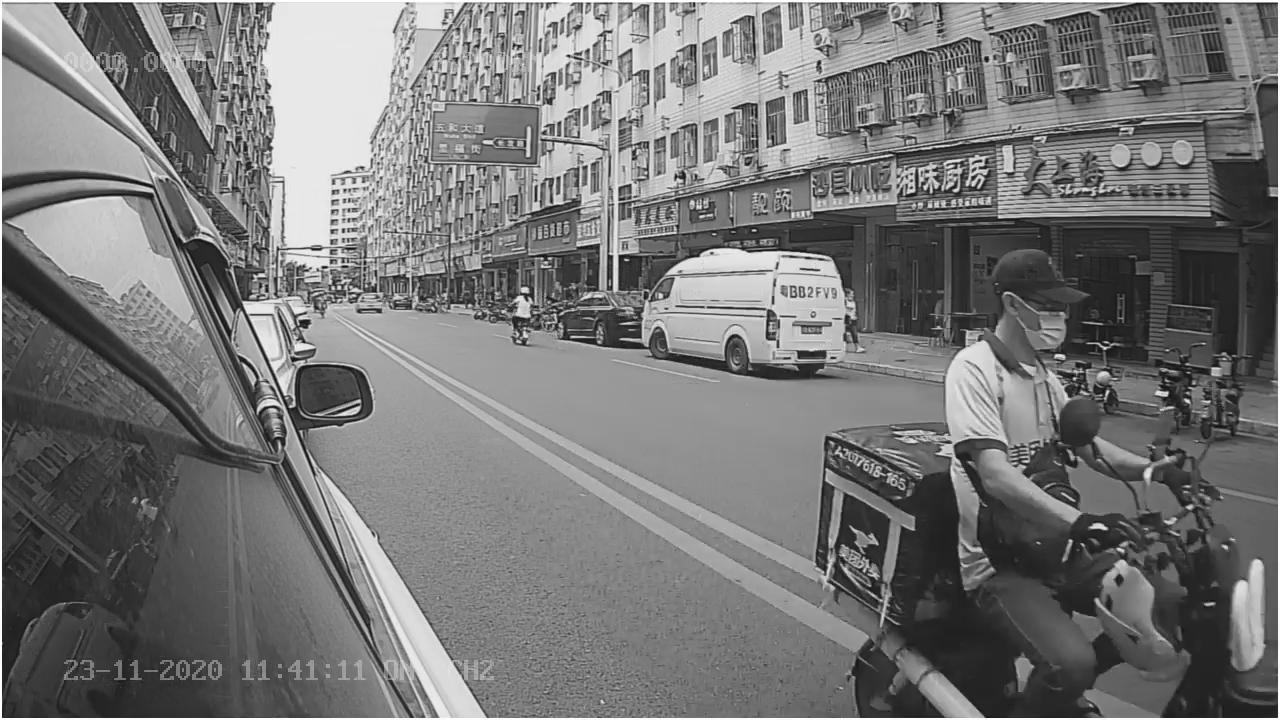person: (938, 246, 1125, 539)
